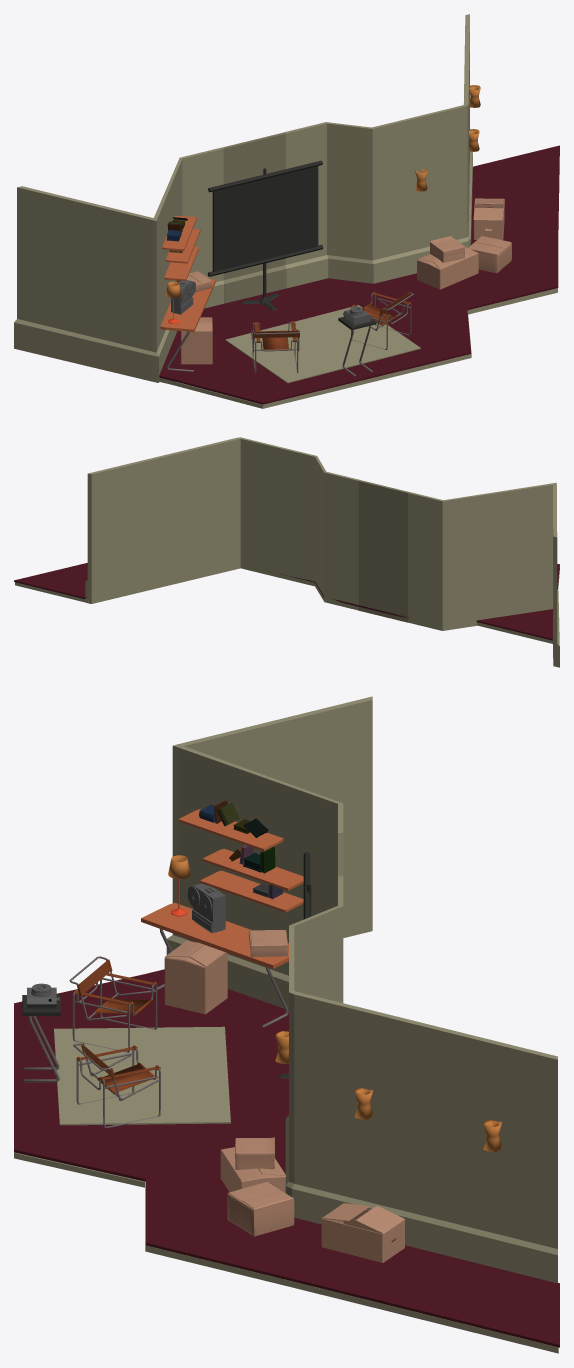
The model's file is MDL_Video_Room_Blockout.fbx.
The picture shows the model from 3 angles, top to bottom: view 1: azimuth 30°, elevation 25°; view 2: azimuth 150°, elevation 25°; view 3: azimuth 270°, elevation 25°; orthographic projection. The views are drawn at different scales.
Visible parts, largest first — view 1: MDL_Video_wall_01, MDL_Videoprep.003, MDL_Video_wall_02, MDL_Screenroom_Screen.001, MDL_Videoprep.002, MDL_Video_wall_03, MDL_Box_04.006, MDL_Hex_Ex_08.001, MDL_Box_05.005, MDL_Cardbox_01.006, MDL_Box_02.005, MDL_Projector_Leggos_01.002 (+9 smaller); view 2: MDL_Video_wall_02, MDL_Video_wall_01, MDL_Video_wall_03, MDL_Videoprep.003, MDL_Videoprep; view 3: MDL_Video_wall_02, MDL_Videoprep.003, MDL_Video_wall_01, MDL_Videoprep.002, MDL_Box_05.005, MDL_Cardbox_01.006, MDL_Videoprep.001, MDL_Projector_Leggos_01.002, MDL_Box_02.005, MDL_Projector_Leggos_01.003, MDL_Box_04.006, MDL_Voice_Recorder (+10 smaller).
Part boxes in pixels (bbox=[...]): MDL_Video_wall_01: bbox=[14, 147, 224, 382]; MDL_Videoprep.003: bbox=[159, 145, 559, 404]; MDL_Video_wall_02: bbox=[284, 14, 472, 288]; MDL_Screenroom_Screen.001: bbox=[207, 160, 323, 310]; MDL_Videoprep.002: bbox=[225, 305, 420, 383]; MDL_Video_wall_03: bbox=[222, 132, 286, 303]; MDL_Box_04.006: bbox=[417, 247, 478, 289]; MDL_Hex_Ex_08.001: bbox=[175, 311, 471, 408]; MDL_Box_05.005: bbox=[181, 317, 212, 364]; MDL_Cardbox_01.006: bbox=[473, 198, 504, 239]; MDL_Box_02.005: bbox=[468, 236, 511, 273]; MDL_Projector_Leggos_01.002: bbox=[160, 279, 215, 332]; MDL_Video_wall_02: bbox=[85, 437, 359, 610]; MDL_Video_wall_01: bbox=[408, 482, 559, 667]; MDL_Video_wall_03: bbox=[358, 480, 409, 622]; MDL_Videoprep.003: bbox=[14, 563, 559, 640]; MDL_Videoprep: bbox=[477, 622, 552, 643]; MDL_Video_wall_02: bbox=[285, 876, 557, 1283]; MDL_Videoprep.003: bbox=[14, 969, 559, 1347]; MDL_Video_wall_01: bbox=[166, 696, 372, 1010]; MDL_Videoprep.002: bbox=[54, 1026, 230, 1125]; MDL_Box_05.005: bbox=[164, 940, 227, 1014]; MDL_Cardbox_01.006: bbox=[321, 1203, 404, 1262]; MDL_Videoprep.001: bbox=[145, 1182, 558, 1353]; MDL_Projector_Leggos_01.002: bbox=[141, 903, 288, 968]; MDL_Box_02.005: bbox=[227, 1181, 294, 1236]; MDL_Projector_Leggos_01.003: bbox=[200, 870, 303, 912]; MDL_Box_04.006: bbox=[220, 1147, 286, 1192]; MDL_Voice_Recorder: bbox=[187, 883, 225, 933].
Bounding box in the file's own units: 1083 × 272 × 582.
